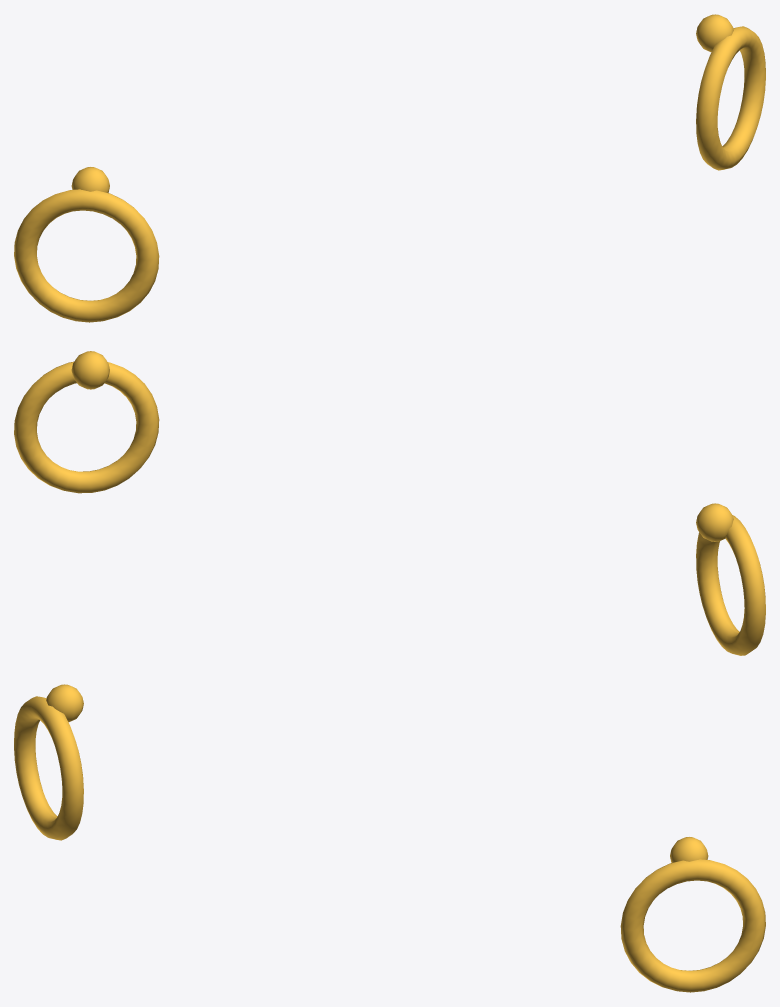
The model's file is earring-hoop.glb.
3 views of the same model, one above another, from view 1: azimuth 30°, elevation 25°; view 2: azimuth 150°, elevation 25°; view 3: azimuth 330°, elevation 25° (orthographic).
Parts seen in each view (by area): view 1: earring-hoop-mesh; view 2: earring-hoop-mesh; view 3: earring-hoop-mesh.
Part boxes in pixels (x1,y1,x2,y2): earring-hoop-mesh: (14,14,765,322); earring-hoop-mesh: (14,351,765,655); earring-hoop-mesh: (14,684,765,992).
Bounding box in the file's own units: 2.24 × 0.4198 × 0.251.
